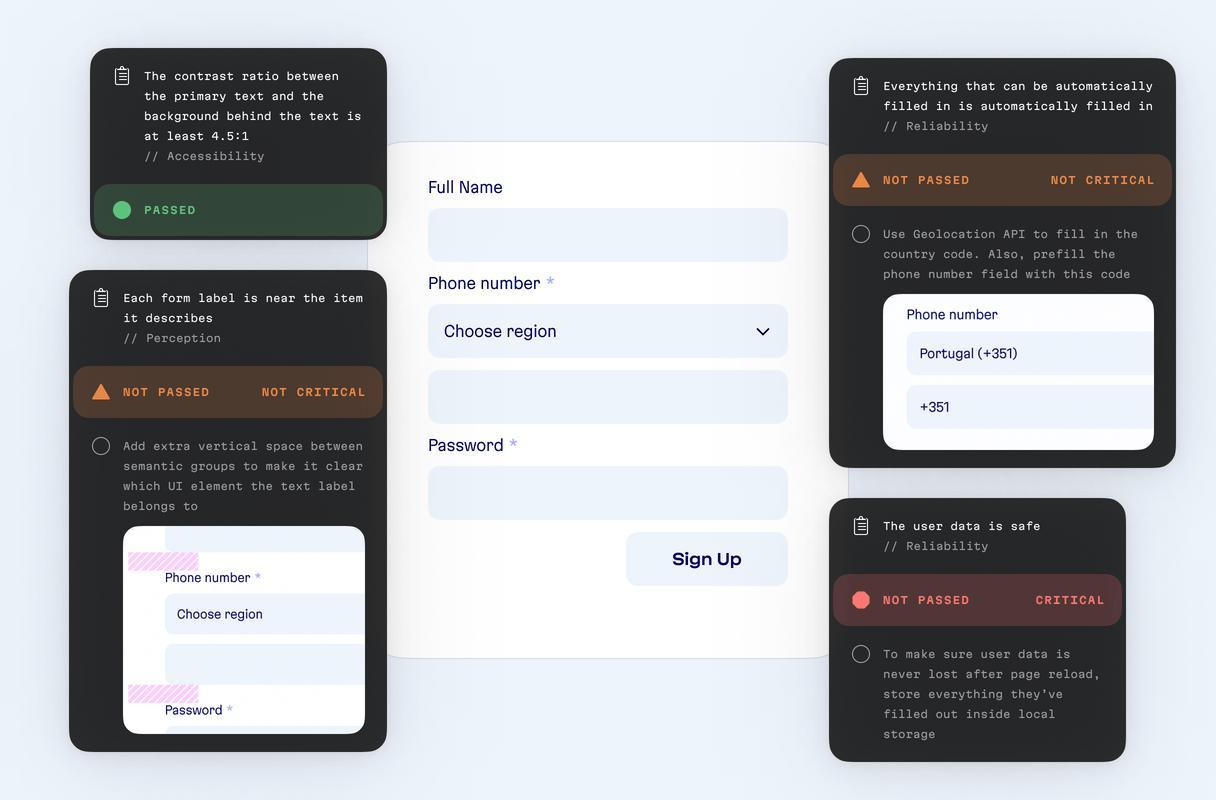button: (627, 531, 789, 587)
dropdown: (427, 303, 788, 360)
icon: (106, 59, 137, 93), (89, 376, 115, 412), (850, 69, 874, 105), (89, 281, 113, 317), (852, 512, 875, 547), (853, 171, 875, 194)
input: (432, 371, 791, 425), (431, 469, 789, 521), (427, 212, 789, 263), (911, 335, 1155, 375), (908, 388, 1156, 427), (167, 595, 367, 637), (165, 643, 366, 684)
label: (423, 273, 559, 297), (426, 431, 523, 458), (1046, 169, 1163, 191), (257, 385, 370, 407), (119, 380, 213, 404), (1032, 585, 1117, 610), (428, 174, 507, 198), (879, 592, 976, 611), (882, 172, 973, 191), (139, 198, 202, 219)
radio: (89, 432, 114, 464), (109, 197, 135, 226), (848, 643, 875, 669), (851, 221, 874, 251), (850, 589, 871, 615)
